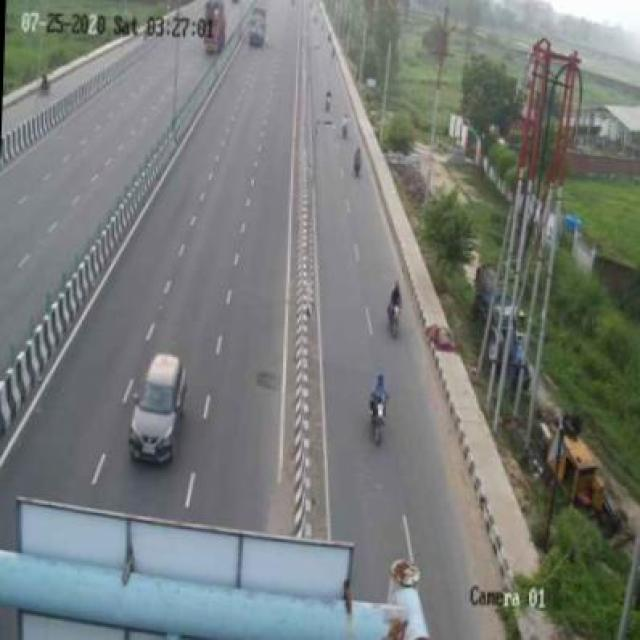car: (129, 343, 191, 463)
